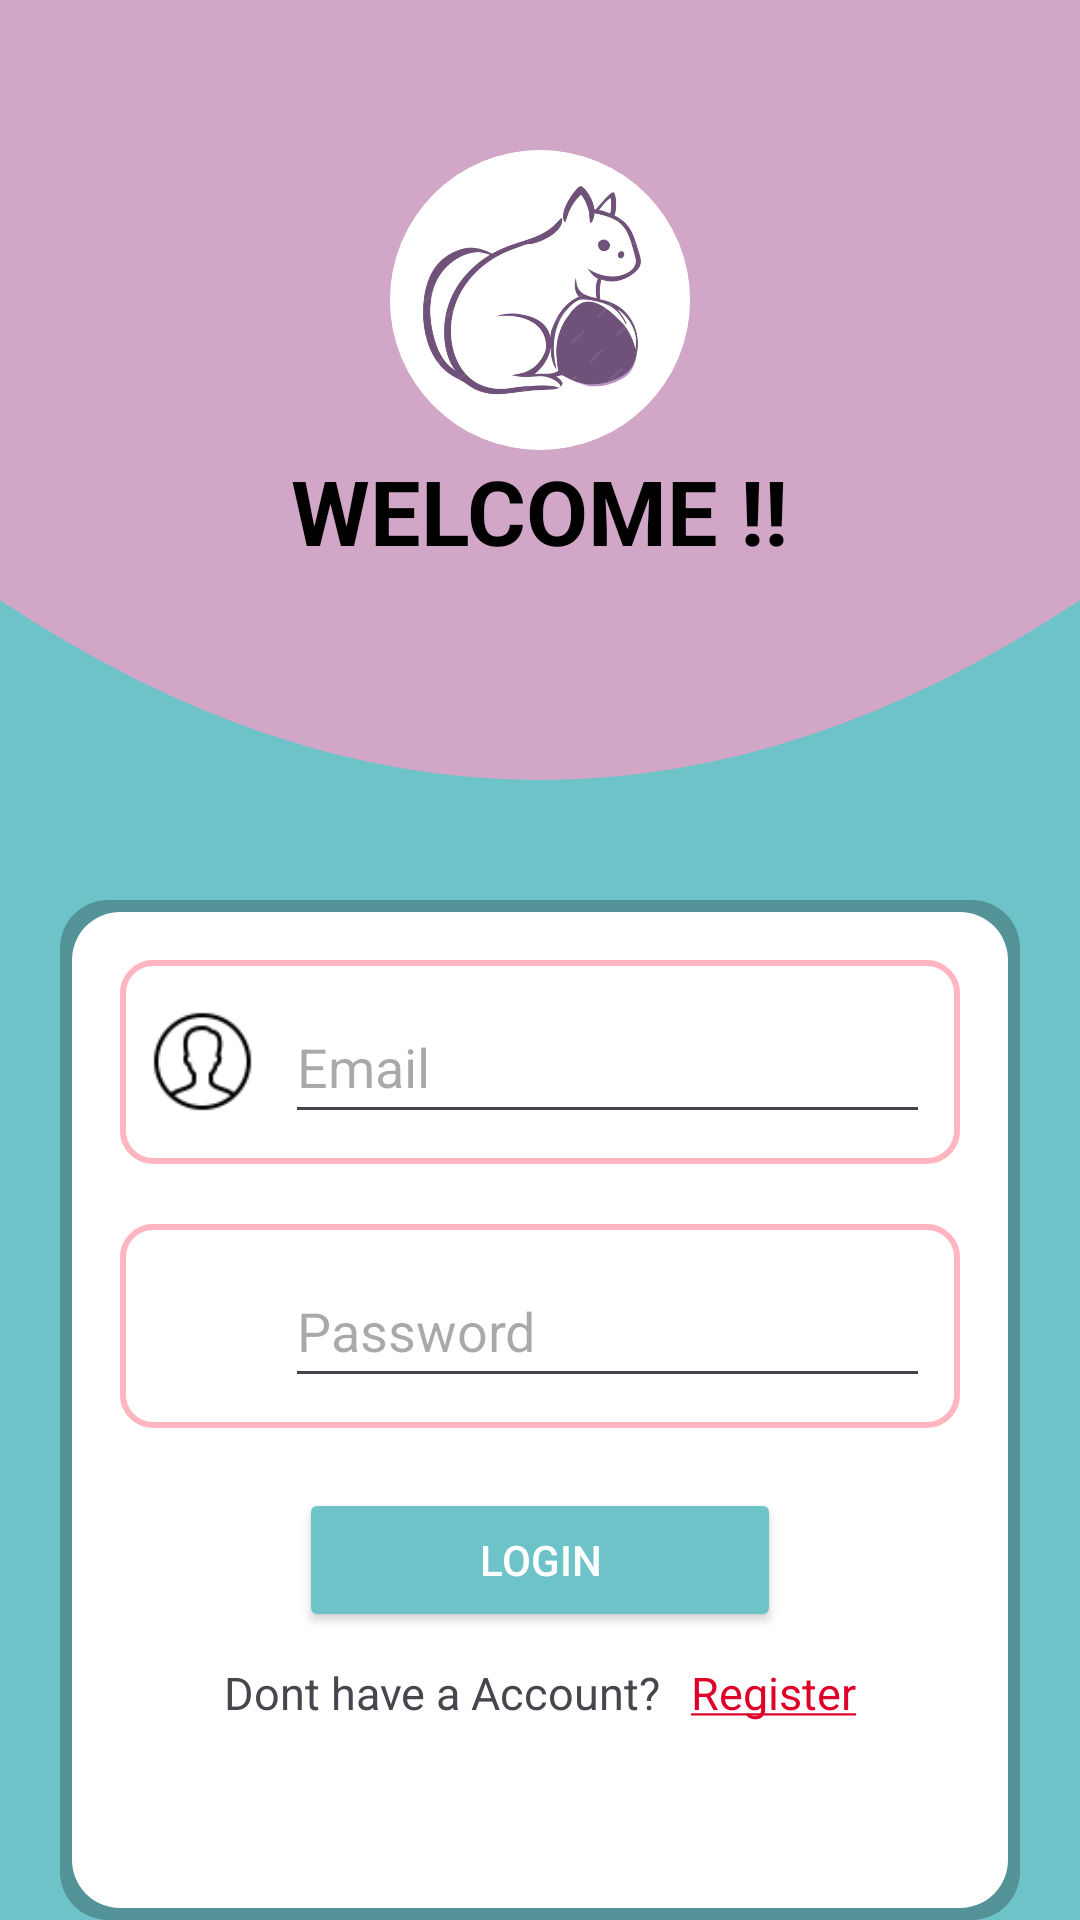

Screen size 1080px x 1920px. Icon name, then its box in pixels as Rect(x1, y1, x2, y2):
user: Rect(153, 1012, 252, 1111)
